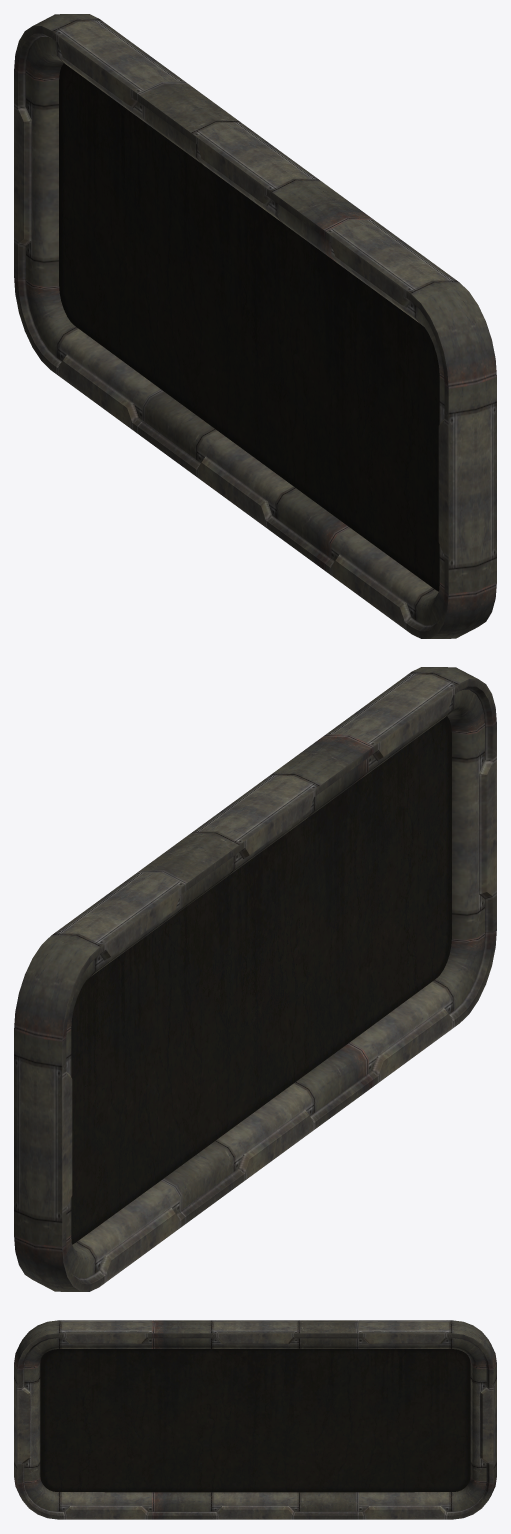
File: pplant_windowframe_large.dae
3 views of the same model, one above another, from view 1: azimuth 30°, elevation 25°; view 2: azimuth 150°, elevation 25°; view 3: azimuth 270°, elevation 25° (orthographic). The views are drawn at different scales.
Visible parts, largest first — view 1: bulkhead_windowframe_large_glass, bulkhead_windowframe_large; view 2: bulkhead_windowframe_large_glass, bulkhead_windowframe_large; view 3: bulkhead_windowframe_large_glass, bulkhead_windowframe_large.
Boxes of the visible parts, x1=… form: bulkhead_windowframe_large_glass: x1=59, y1=63, x2=439, y2=591; bulkhead_windowframe_large: x1=14, y1=14, x2=496, y2=638; bulkhead_windowframe_large_glass: x1=71, y1=716, x2=451, y2=1244; bulkhead_windowframe_large: x1=14, y1=667, x2=496, y2=1291; bulkhead_windowframe_large_glass: x1=40, y1=1349, x2=470, y2=1492; bulkhead_windowframe_large: x1=14, y1=1320, x2=496, y2=1519.
Bounding box in the file's own units: 0.4087 × 2.84 × 6.46.
